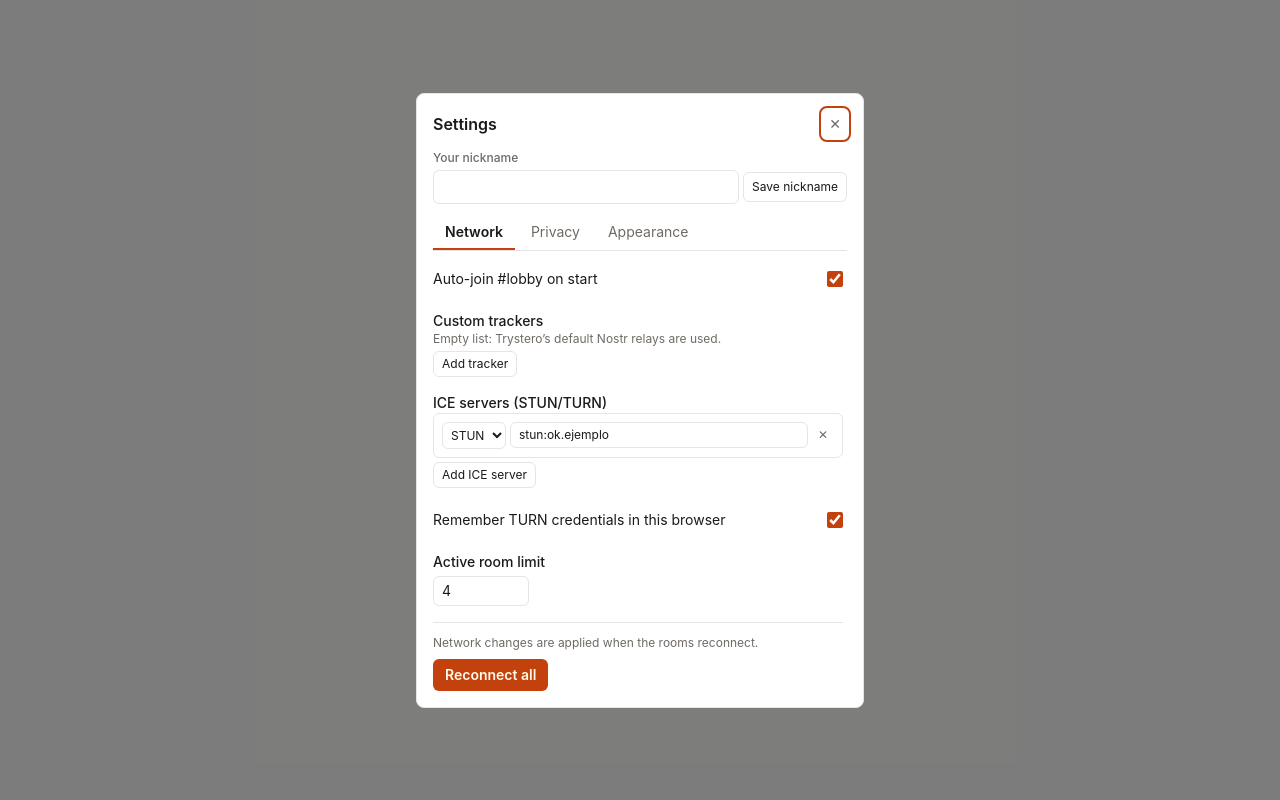
Scenario: Red tab (RF-07) › rejects a wrong ICE scheme with the inline error and keeps the store clean
Replace the text in the field named "ICE server URL 1" with "http:": (659,435) [510,422,808,448]
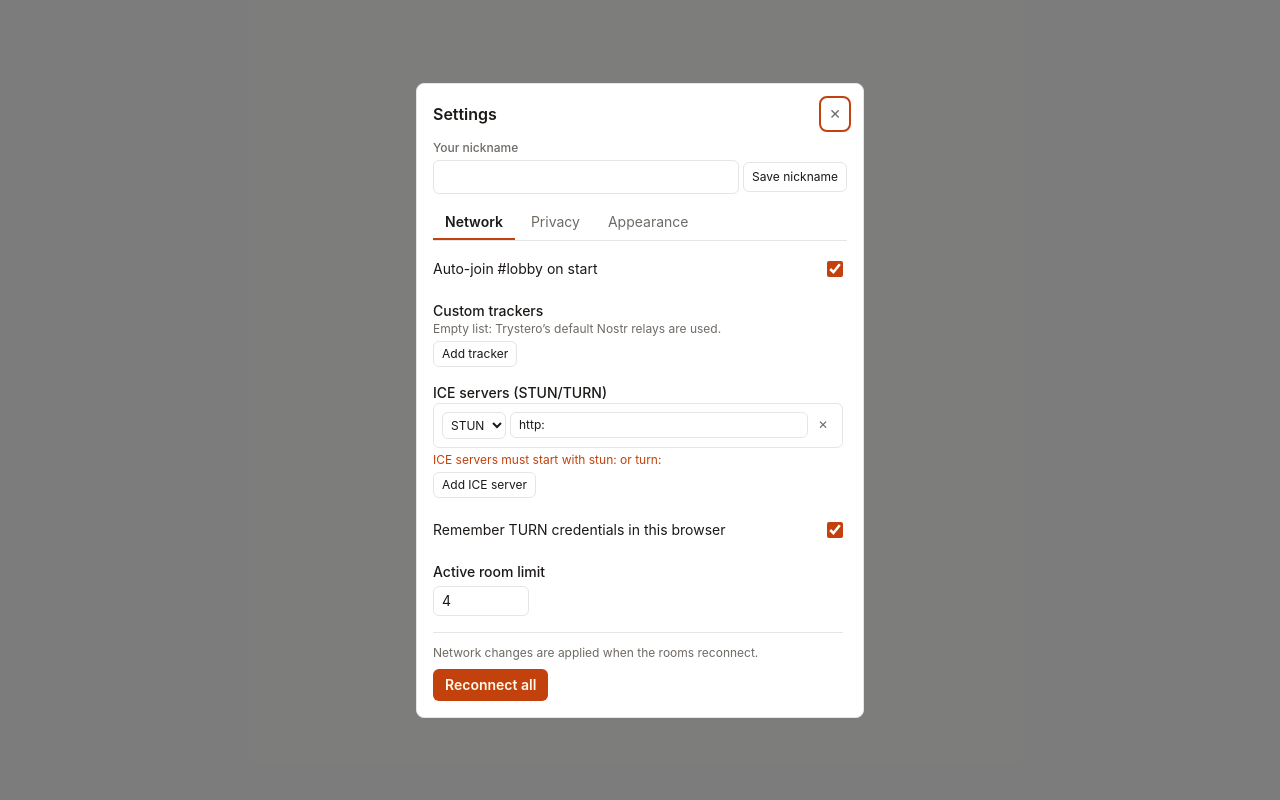
Check: the message reads "ICE servers must start with stun: or turn:", box [433,452,661,466]
